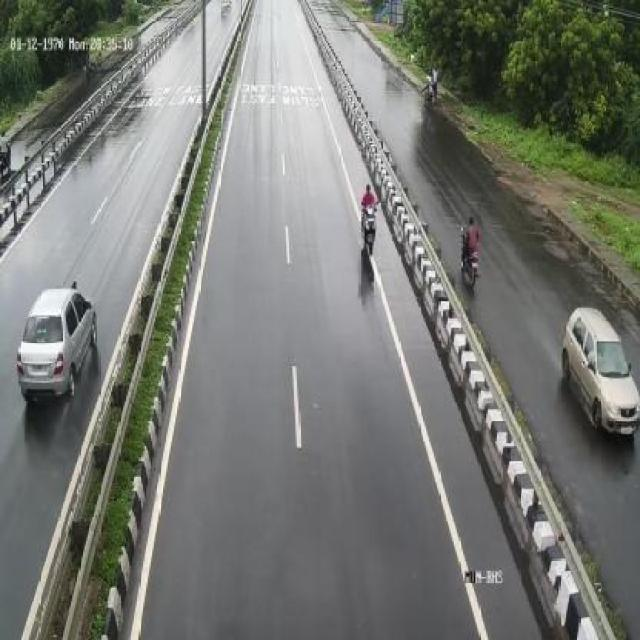car: (566, 300, 640, 442)
